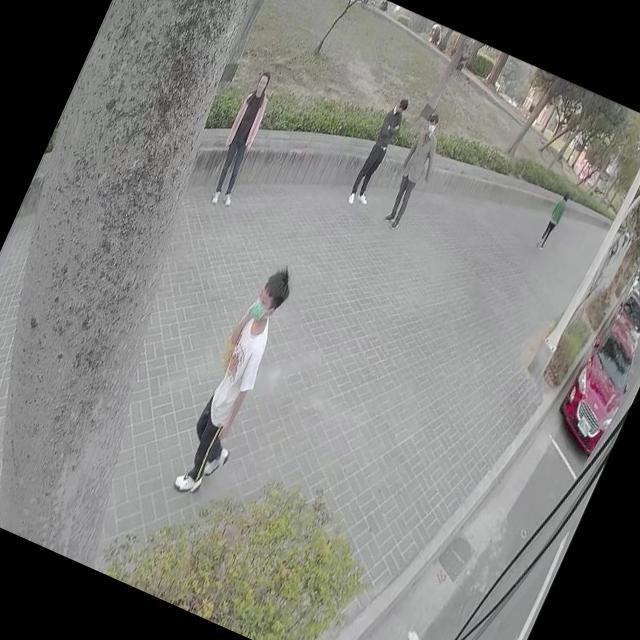person: (162, 256, 308, 503), (201, 69, 280, 205), (379, 110, 451, 232), (348, 92, 413, 208), (536, 190, 572, 252)
